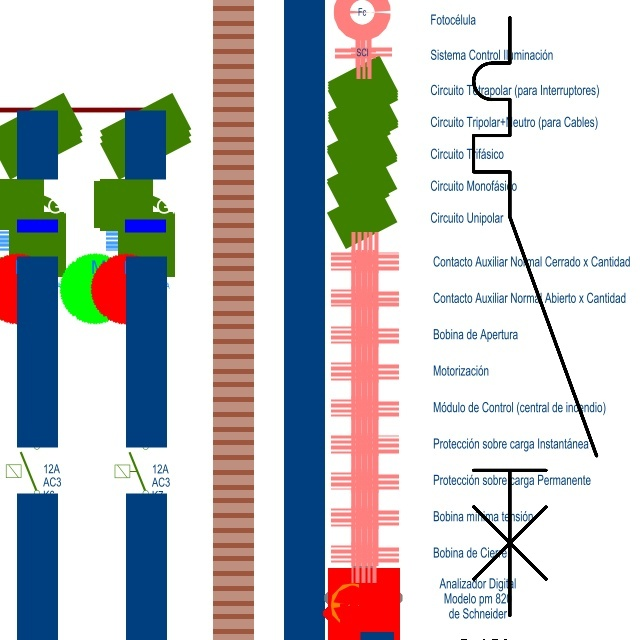interruptor_termomagnetico: (458, 2, 612, 631)
